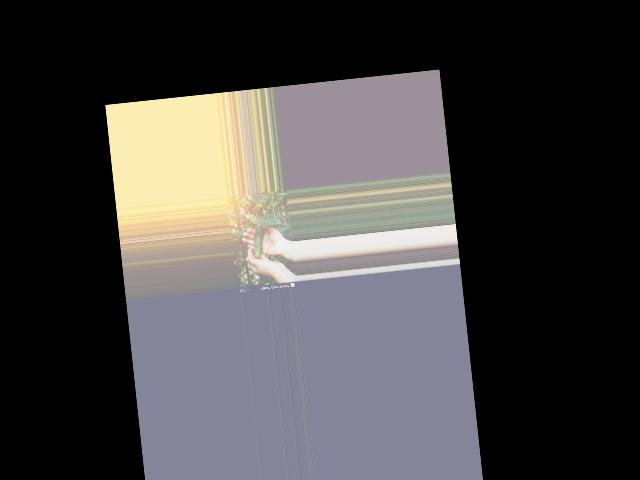cucumber: (251, 226, 265, 258)
